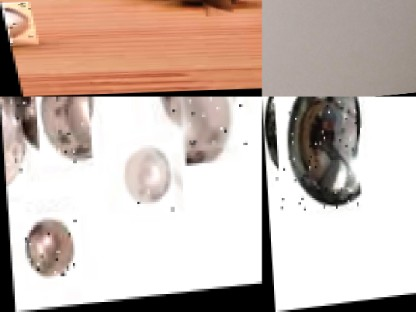ironball: (267, 96, 366, 216), (26, 96, 97, 168), (118, 145, 181, 222), (168, 96, 245, 157), (21, 213, 81, 284), (0, 97, 26, 196), (0, 1, 36, 45), (179, 0, 247, 12), (4, 96, 25, 114)
